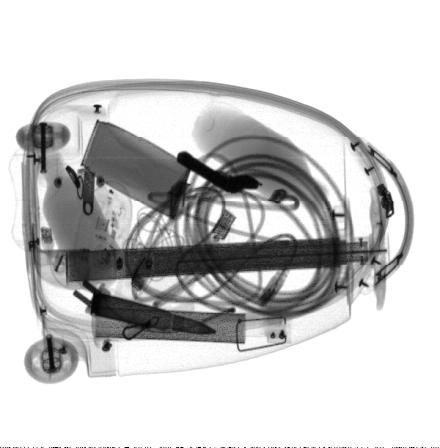Bullet: (90, 293, 218, 335)
Gun: (176, 151, 260, 194)
